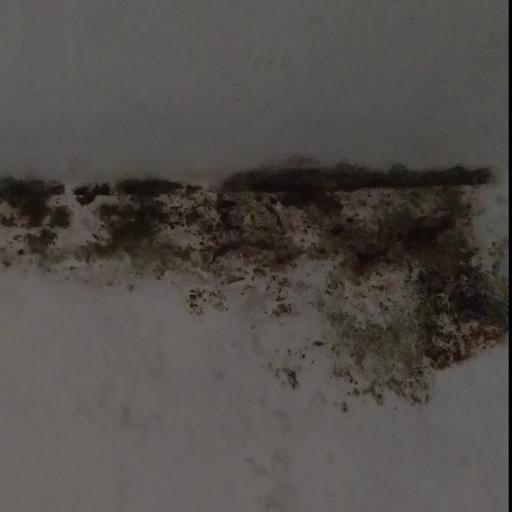algae: (0, 146, 512, 415)
